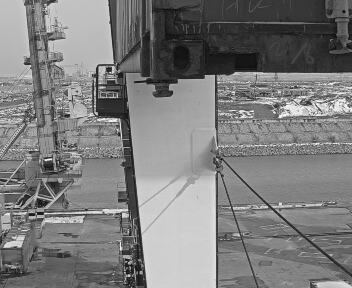twist_lock_1: (143, 73, 182, 106)
